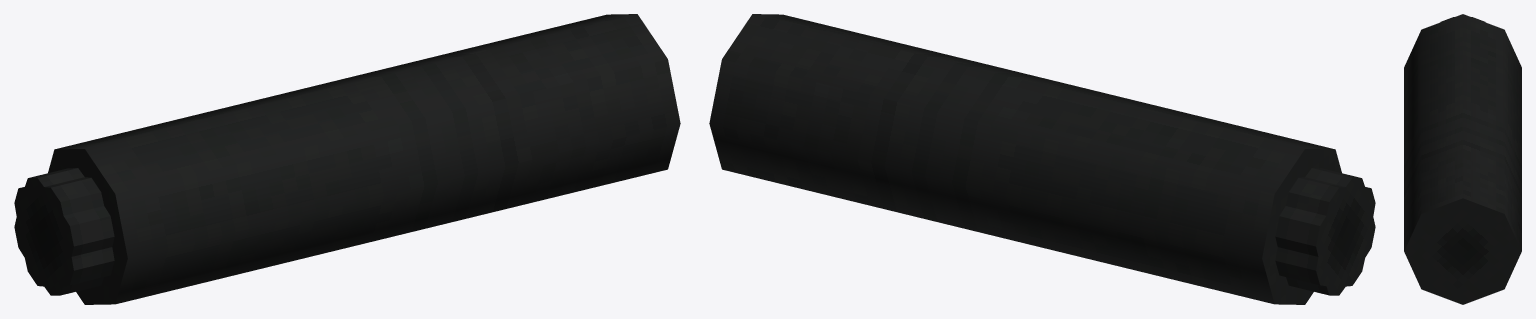
Rendered from suppressor_mp_1.glb.
3 renders of one model, left to right at view 1: azimuth 30°, elevation 25°; view 2: azimuth 150°, elevation 25°; view 3: azimuth 270°, elevation 25°, orthographic. The views are drawn at different scales.
Visible parts, largest first — view 1: suppressor_mp_1; view 2: suppressor_mp_1; view 3: suppressor_mp_1.
Part boxes in pixels (x1,y1,x2,y2): suppressor_mp_1: (14, 14, 680, 304); suppressor_mp_1: (709, 14, 1375, 304); suppressor_mp_1: (1404, 14, 1521, 304).
Size of the model in its own units: 0.175 by 0.044 by 0.044.
Materials: 1 (1 with a texture image).
